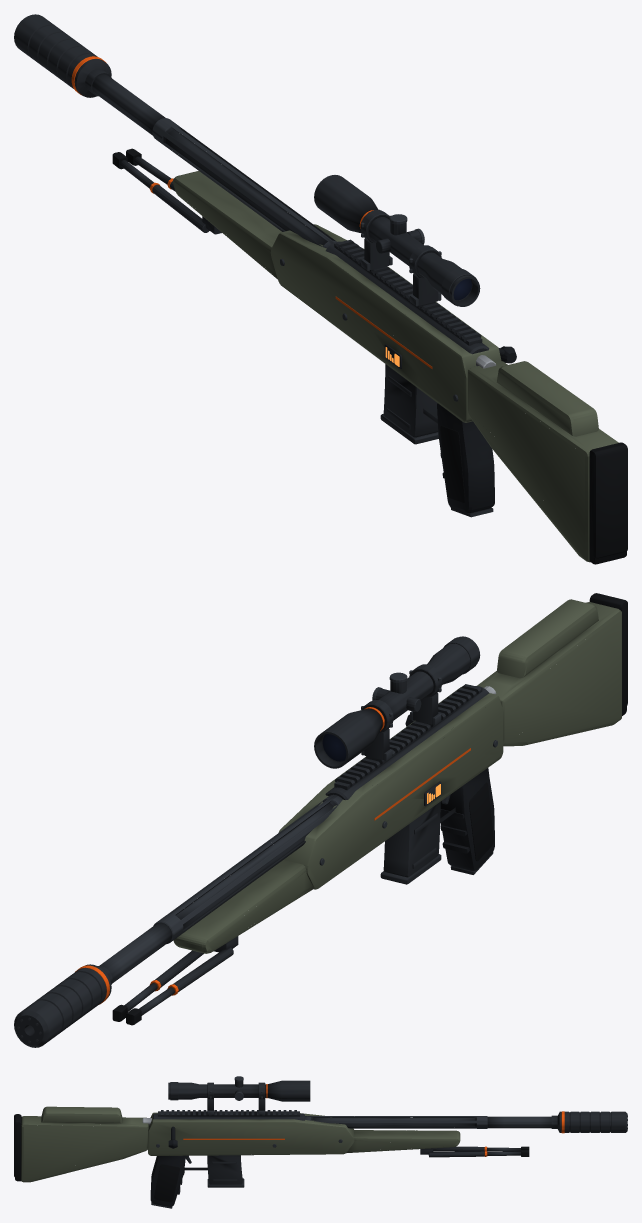
3 renders of one model, top to bottom at view 1: azimuth 30°, elevation 25°; view 2: azimuth 150°, elevation 25°; view 3: azimuth 270°, elevation 25°, orthographic. The views are drawn at different scales.
Parts seen in each view (by area): view 1: body_furn, body_frame2, body_steel, body_rubber, body_polymer, mag_frame2; view 2: body_furn, body_frame2, body_steel, mag_frame2, body_polymer, body_rubber, body_accent; view 3: body_furn, body_frame2, body_steel, body_rubber, mag_frame2, body_polymer, body_accent.
Part boxes in pixels (box(x1,y1,x2,y2)): body_furn: box(173, 171, 618, 562); body_frame2: box(14, 14, 493, 517); body_steel: box(92, 74, 458, 401); body_rubber: box(112, 148, 627, 564); body_polymer: box(437, 403, 494, 512); mag_frame2: box(380, 364, 438, 444); body_furn: box(173, 599, 621, 953); body_frame2: box(14, 636, 493, 1047); body_steel: box(17, 670, 497, 1043); mag_frame2: box(380, 802, 441, 884); body_polymer: box(440, 768, 494, 870); body_rubber: box(112, 593, 627, 1025); body_accent: box(75, 707, 470, 1004); body_furn: box(21, 1106, 460, 1182); body_frame2: box(151, 1080, 627, 1208); body_steel: box(156, 1076, 627, 1163); body_rubber: box(14, 1114, 529, 1202); mag_frame2: box(207, 1155, 244, 1187); body_polymer: box(150, 1155, 185, 1206); body_accent: box(183, 1084, 564, 1156).
Bounding box in the file's own units: 0.0901 × 0.2784 × 1.21.
